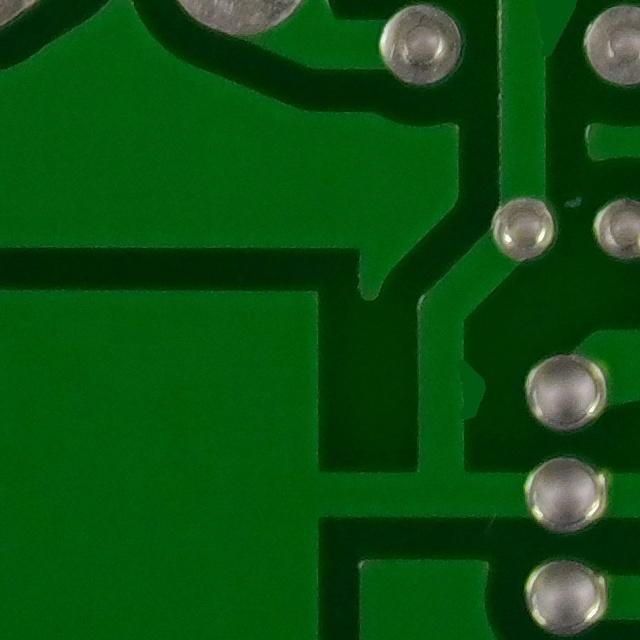spur: (437, 347, 502, 436), (502, 0, 583, 70)
